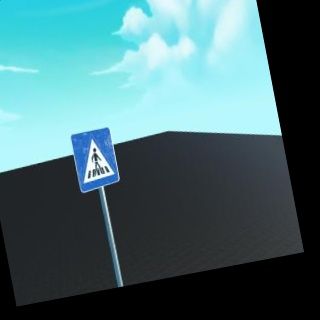crosswalk: (69, 126, 121, 194)
